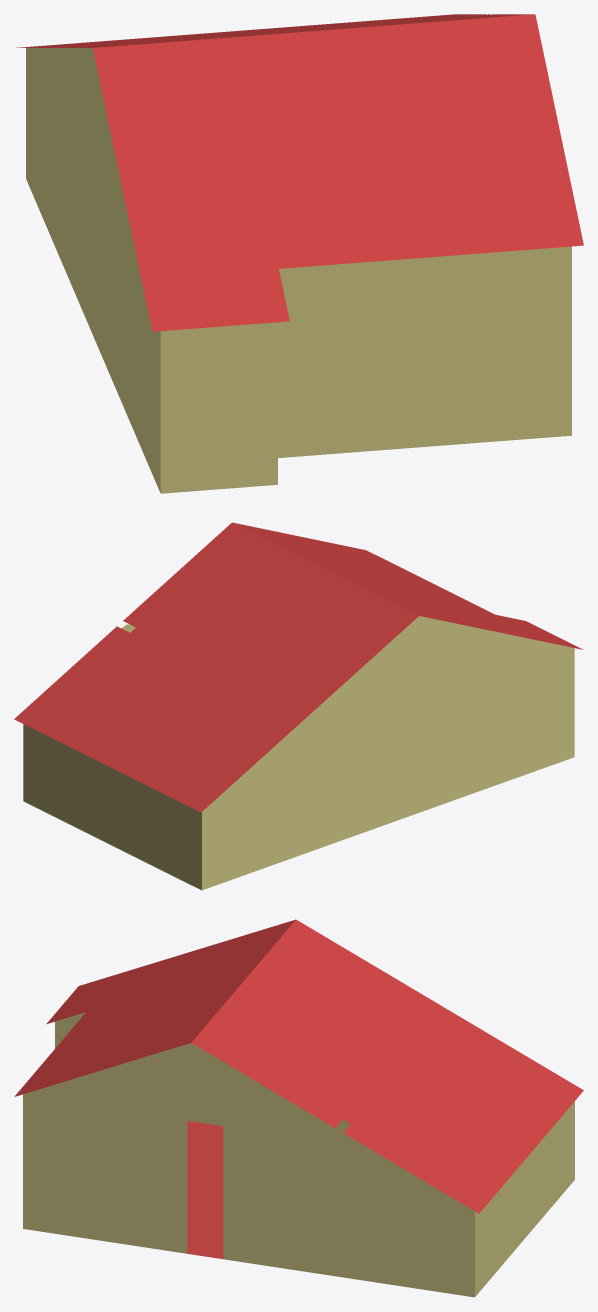
3 views of the same model, one above another, from view 1: azimuth 30°, elevation 25°; view 2: azimuth 150°, elevation 25°; view 3: azimuth 270°, elevation 25° (orthographic). The views are drawn at different scales.
Size of the model in its own units: 33.58 by 40.43 by 16.81.
